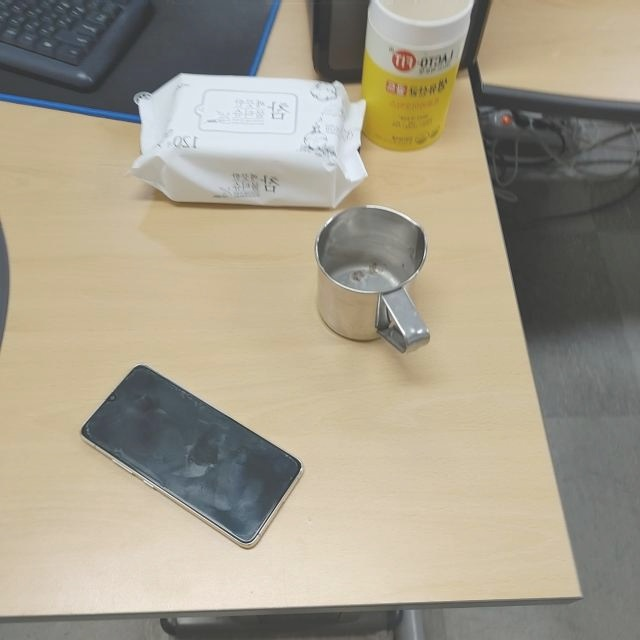cup: (314, 203, 429, 354)
phone: (82, 361, 303, 549)
